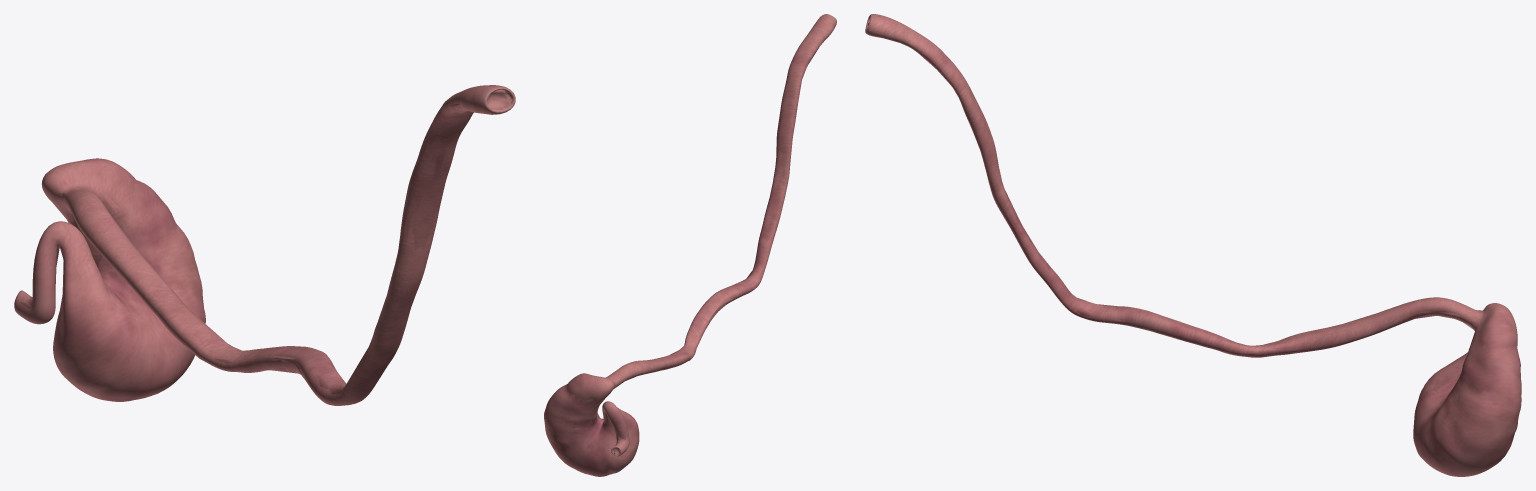
The model's file is Stomach.fbx.
The picture shows the model from 3 angles, left to right: view 1: azimuth 30°, elevation 25°; view 2: azimuth 150°, elevation 25°; view 3: azimuth 270°, elevation 25°; orthographic projection. The views are drawn at different scales.
Parts seen in each view (by area): view 1: Stomach high, Stomach low, Stomach; view 2: Stomach high, Stomach, Stomach low; view 3: Stomach high, Stomach, Stomach low.
Part boxes in pixels (x1,y1,x2,y2): Stomach high: (14, 85, 515, 405); Stomach low: (20, 89, 510, 393); Stomach: (19, 93, 511, 400); Stomach high: (544, 14, 836, 476); Stomach: (545, 39, 825, 474); Stomach low: (559, 40, 824, 474); Stomach high: (865, 14, 1521, 476); Stomach: (880, 34, 1520, 463); Stomach low: (867, 23, 1518, 453).
Size of the model in its own units: 19.82 by 72.12 by 97.57.
